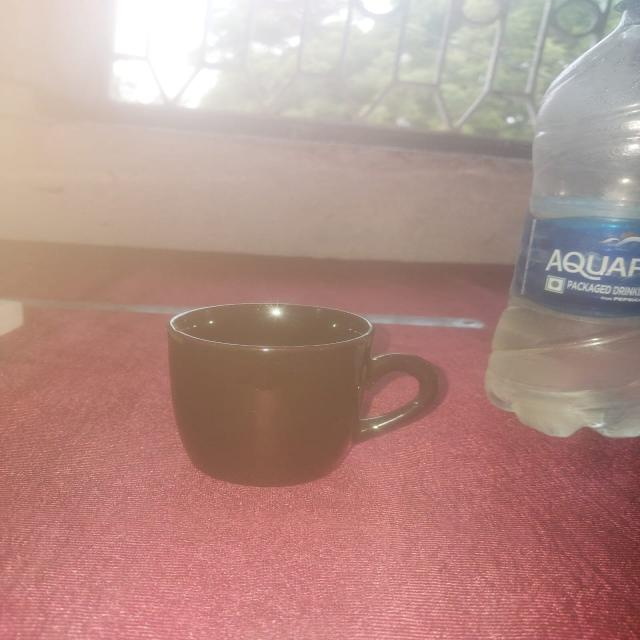Bottle: (486, 0, 640, 442)
Cup: (159, 303, 445, 489)
